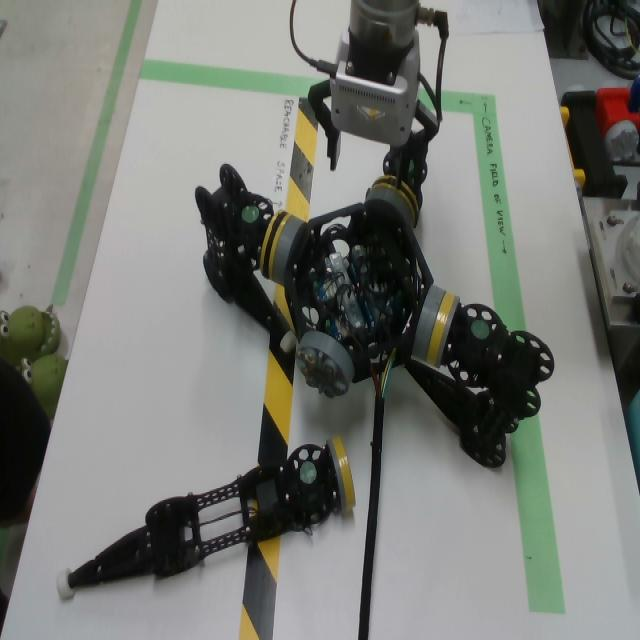body: (285, 203, 434, 384)
body_connector: (297, 331, 354, 397), (412, 285, 445, 361), (272, 216, 306, 287), (365, 188, 414, 228)
gripper: (308, 80, 439, 189)
leg: (56, 435, 356, 601), (404, 292, 554, 468), (195, 164, 298, 353), (371, 144, 428, 228)
leg_connector: (426, 292, 460, 369), (371, 175, 419, 228), (326, 436, 356, 512), (260, 209, 291, 281)
leg_marker: (300, 461, 316, 484), (472, 320, 489, 337), (243, 207, 258, 223), (409, 161, 413, 171)
